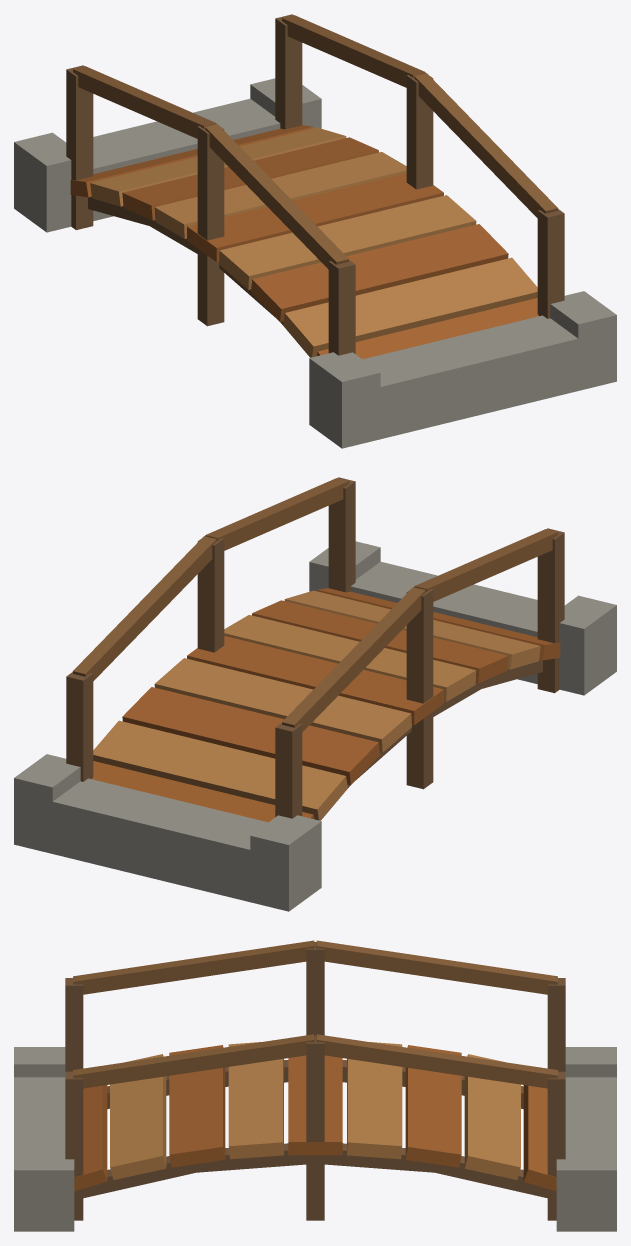
The model's file is footbridge.glb.
3 views of the same model, one above another, from view 1: azimuth 30°, elevation 25°; view 2: azimuth 150°, elevation 25°; view 3: azimuth 270°, elevation 25° (orthographic). The views are drawn at different scales.
Visible parts, largest first — view 1: footbridge; view 2: footbridge; view 3: footbridge.
Part boxes in pixels (x1,y1,x2,y2): footbridge: [14, 14, 616, 448]; footbridge: [14, 477, 616, 911]; footbridge: [14, 940, 616, 1231].
Size of the model in its own units: 2.42 by 1.64 by 5.
